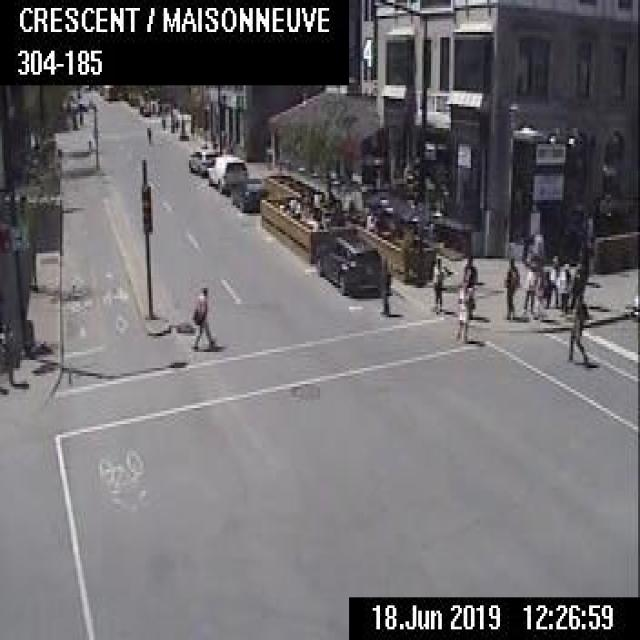cyclist: (145, 123, 151, 142)
pedestrian: (189, 283, 216, 352), (566, 292, 587, 362), (455, 278, 474, 339), (502, 255, 518, 317), (461, 252, 476, 316), (544, 253, 562, 306), (556, 260, 572, 314), (521, 260, 536, 313), (376, 256, 389, 315), (431, 253, 442, 310), (174, 117, 178, 130), (160, 115, 164, 128)
vehicle: (313, 229, 380, 296), (206, 153, 246, 191), (230, 175, 267, 210), (187, 146, 217, 172)
